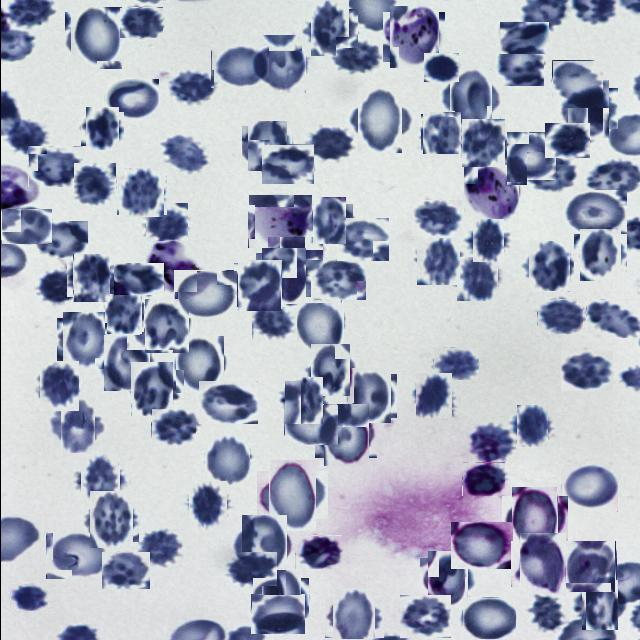difficult: (462, 166, 520, 222)
red blood cell: (262, 466, 322, 526), (66, 9, 124, 66), (506, 491, 562, 547), (514, 536, 570, 592), (352, 92, 407, 148), (173, 270, 236, 318), (318, 408, 372, 462), (45, 532, 107, 579), (450, 522, 512, 569), (562, 190, 626, 235), (292, 299, 345, 353), (237, 518, 290, 572), (255, 38, 308, 91), (561, 462, 617, 512), (172, 338, 225, 390), (100, 338, 152, 389), (564, 541, 616, 592), (197, 380, 257, 424), (58, 316, 110, 366), (86, 494, 136, 546), (445, 73, 496, 123), (201, 434, 251, 484), (562, 84, 612, 134), (258, 250, 308, 300), (210, 45, 268, 88), (344, 372, 394, 421), (328, 591, 378, 640), (142, 301, 191, 351), (551, 60, 602, 108), (504, 134, 553, 183), (126, 366, 176, 414), (424, 554, 472, 603), (312, 256, 365, 300), (335, 217, 388, 261), (526, 152, 579, 196), (76, 456, 124, 504), (117, 168, 165, 216), (256, 574, 304, 622), (235, 262, 283, 310), (461, 597, 515, 639), (305, 5, 353, 52), (27, 146, 82, 187), (266, 236, 322, 276), (283, 404, 337, 445), (576, 231, 623, 278), (399, 595, 450, 638), (526, 243, 572, 290), (104, 79, 158, 119), (250, 594, 304, 634), (260, 144, 313, 184), (54, 402, 100, 448), (460, 120, 506, 166), (585, 299, 639, 338), (493, 44, 543, 86), (560, 351, 612, 391), (306, 347, 352, 392), (32, 221, 87, 258), (414, 240, 460, 284), (244, 124, 288, 168), (185, 483, 229, 527), (36, 364, 80, 408), (578, 583, 621, 627), (68, 257, 112, 300), (73, 163, 115, 208), (467, 423, 514, 463), (455, 257, 498, 300), (281, 379, 324, 422), (0, 208, 51, 244), (411, 200, 461, 236), (101, 552, 149, 589), (251, 304, 296, 343), (225, 552, 276, 586), (150, 408, 195, 446), (412, 375, 453, 416), (422, 112, 462, 154), (160, 134, 205, 171), (335, 37, 376, 77), (308, 201, 349, 241), (536, 299, 582, 334), (114, 263, 164, 295), (294, 535, 341, 569), (145, 203, 187, 241), (34, 269, 77, 306), (544, 123, 589, 158), (499, 22, 548, 54), (169, 70, 213, 105), (103, 294, 142, 333), (432, 347, 478, 380), (526, 594, 564, 633), (138, 531, 180, 566), (461, 462, 504, 496), (82, 110, 120, 148), (468, 222, 506, 260), (4, 120, 46, 154), (306, 128, 350, 160), (512, 408, 550, 444), (118, 7, 162, 38), (9, 584, 47, 611), (423, 53, 458, 82)
trophozoite: (247, 194, 311, 248), (386, 9, 442, 65), (144, 239, 196, 292)
